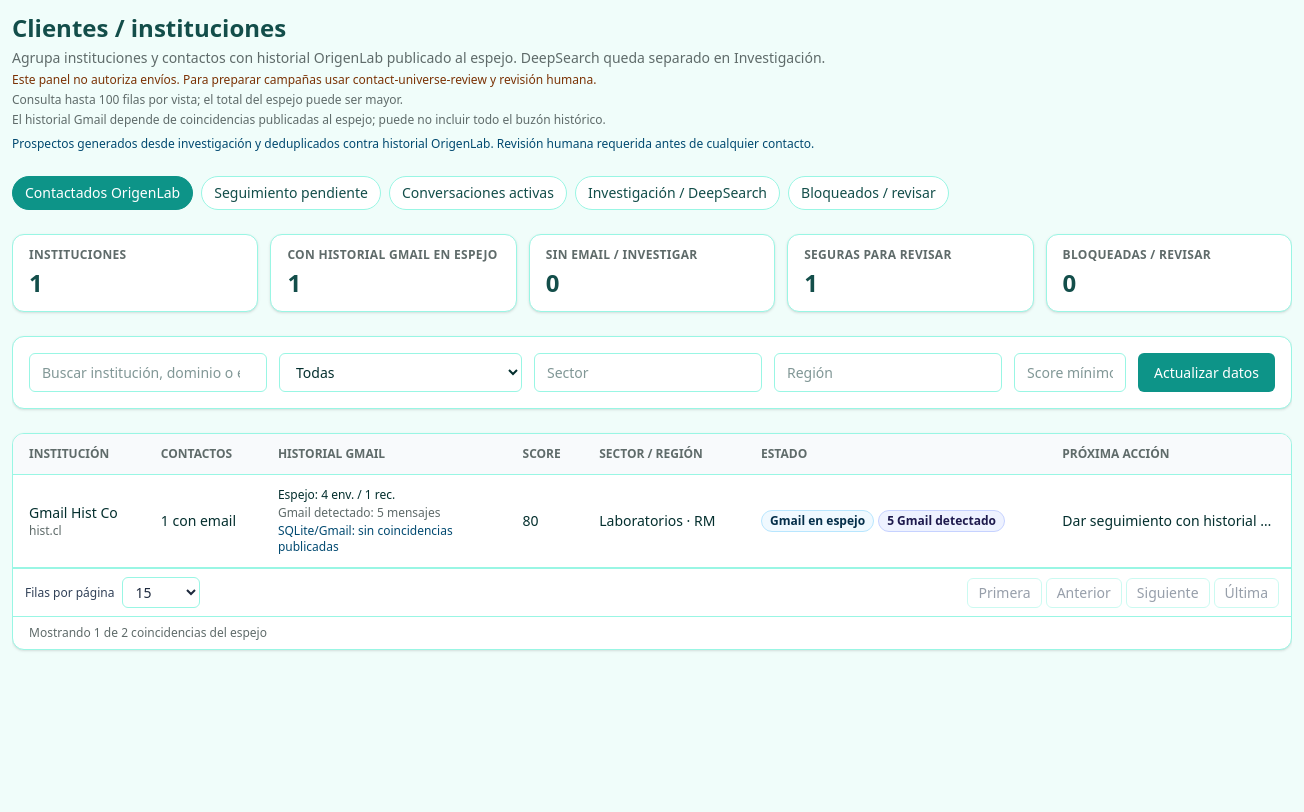
Test: ContactsPage › loads deepsearch scope when Investigación tab is selected
Check: the text "Gmail Hist Co" is shown, box [29, 503, 129, 523]
Click the tab with test id "institution-scope-deepsearch" at (677, 193), box [575, 176, 780, 210]
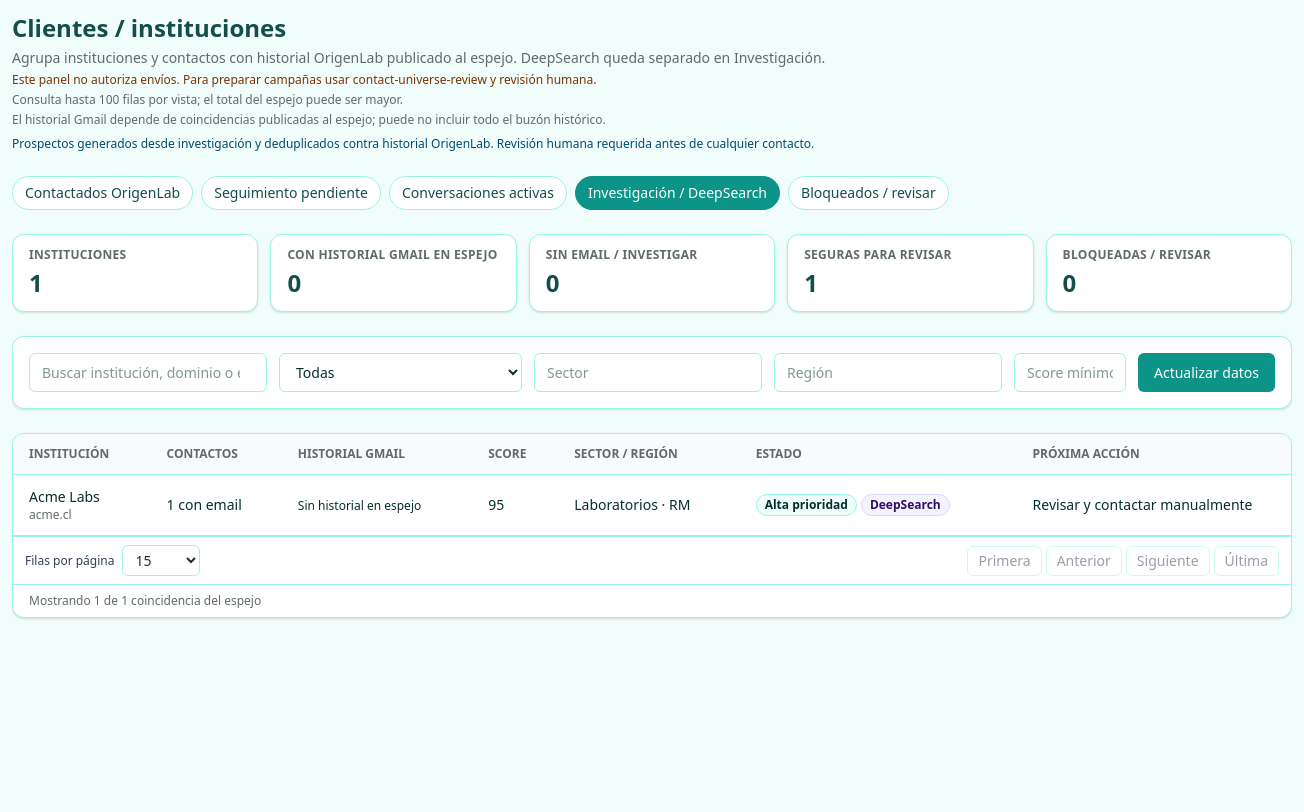
Check: the text "Acme Labs" is shown, box [29, 487, 100, 506]
Check: the text "Gmail Hist Co" is gone
